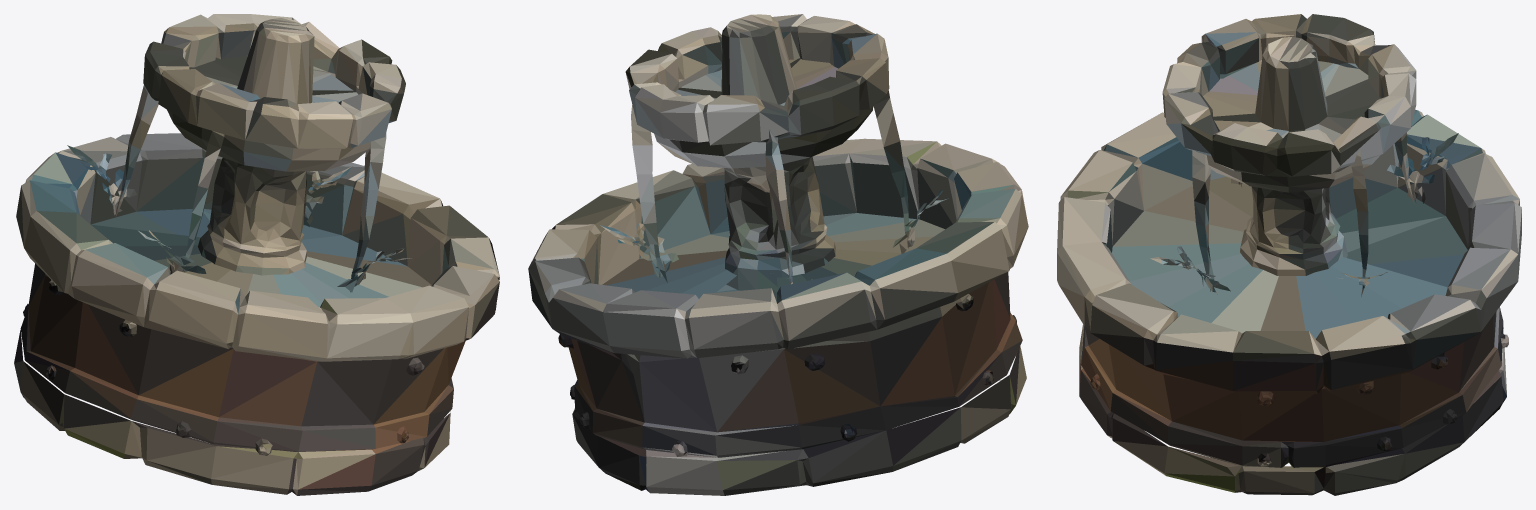
The model's file is Fountain.glb.
3 renders of one model, left to right at view 1: azimuth 30°, elevation 25°; view 2: azimuth 150°, elevation 25°; view 3: azimuth 270°, elevation 25°, orthographic. The views are drawn at different scales.
Parts seen in each view (by area): view 1: world; view 2: world; view 3: world.
Boxes of the visible parts, box(x1,y1,x2,y2) form: world: box(14, 14, 499, 495); world: box(528, 14, 1028, 495); world: box(1057, 14, 1521, 495).
Bounding box in the file's own units: 0.4941 × 0.4531 × 0.4902.
